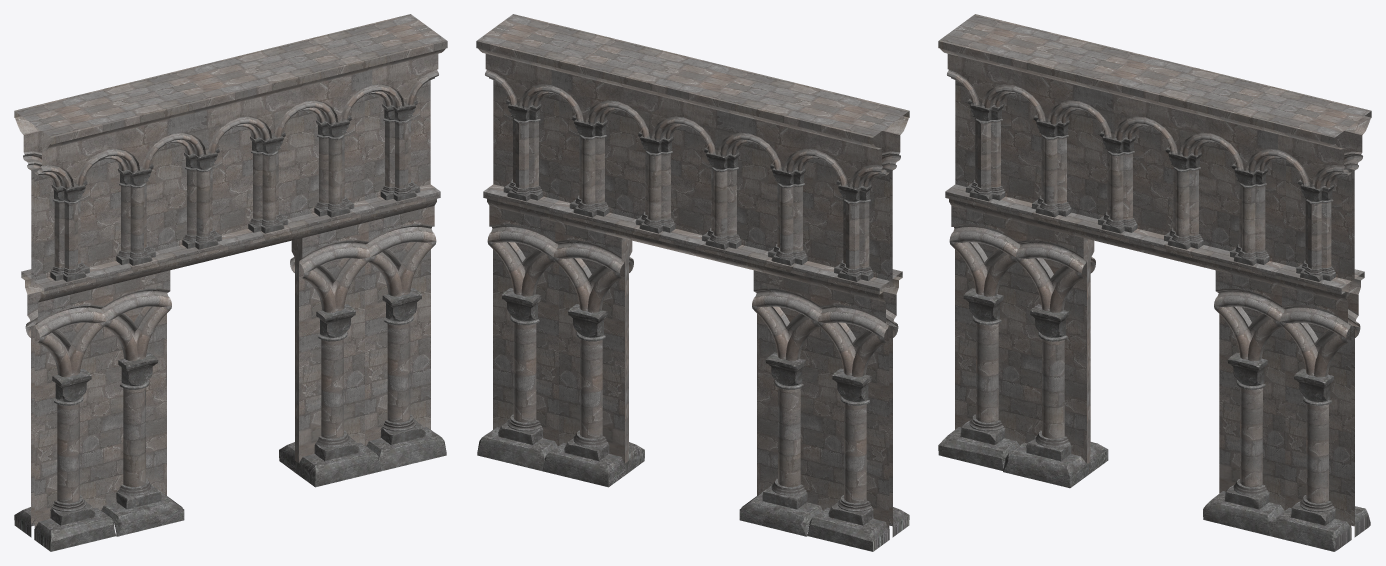
3 renders of one model, left to right at view 1: azimuth 30°, elevation 25°; view 2: azimuth 150°, elevation 25°; view 3: azimuth 330°, elevation 25°, orthographic.
Parts seen in each view (by area): view 1: SM_Dungeon_RoomDestructibleWallFrame_LOD0; view 2: SM_Dungeon_RoomDestructibleWallFrame_LOD0; view 3: SM_Dungeon_RoomDestructibleWallFrame_LOD0.
Boxes of the visible parts, x1,y1,x2,y2 form: SM_Dungeon_RoomDestructibleWallFrame_LOD0: (14,14,447,551); SM_Dungeon_RoomDestructibleWallFrame_LOD0: (476,14,909,551); SM_Dungeon_RoomDestructibleWallFrame_LOD0: (938,14,1371,551).
Size of the model in its own units: 6.01 by 6 by 1.02.
Materials: 2 (2 with a texture image).
